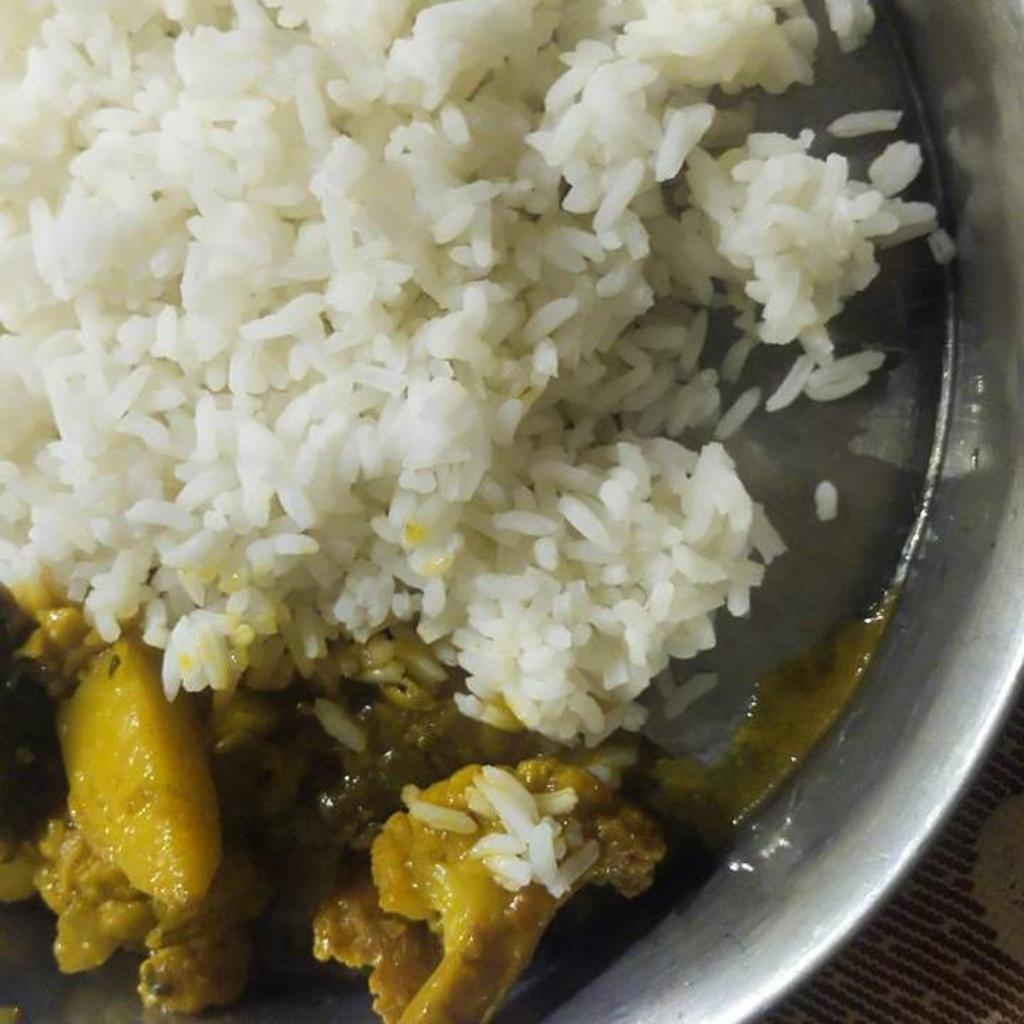cauliflower: (0, 593, 664, 1023)
rice: (0, 0, 947, 746)
